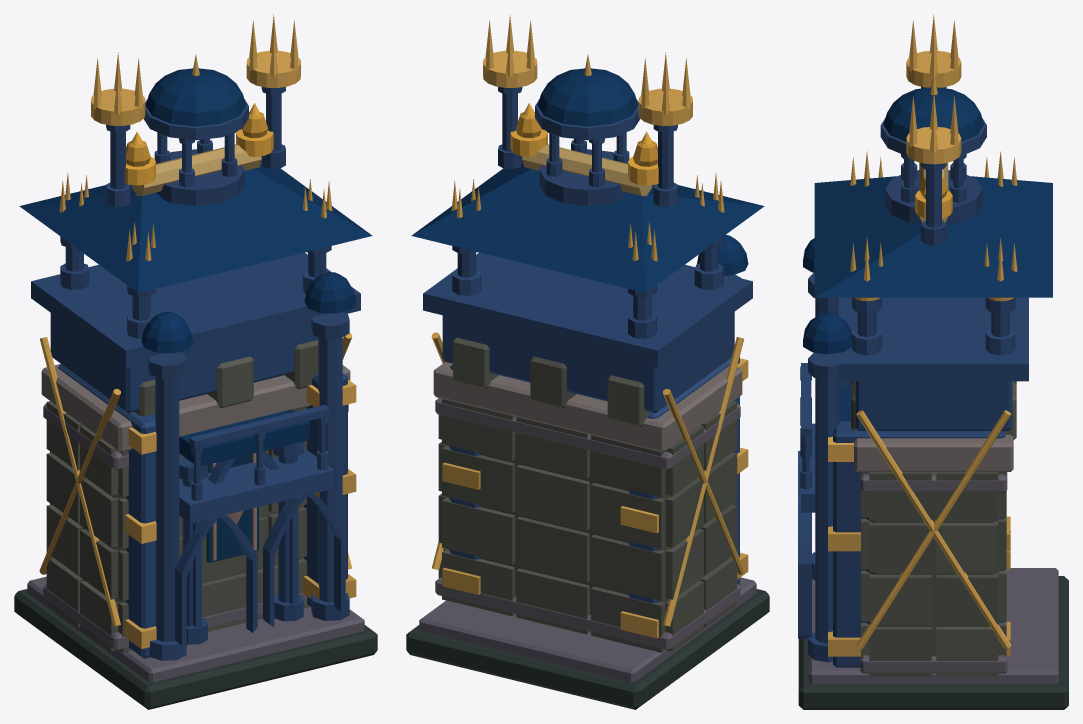
3 renders of one model, left to right at view 1: azimuth 30°, elevation 25°; view 2: azimuth 150°, elevation 25°; view 3: azimuth 270°, elevation 25°, orthographic.
Visible parts, largest first — view 1: wall_L12_0, wall_L12_1; view 2: wall_L12_0, wall_L12_1; view 3: wall_L12_0, wall_L12_1.
Part boxes in pixels (x1,y1,x2,y2): wall_L12_0: (14, 68, 377, 709); wall_L12_1: (39, 14, 356, 648); wall_L12_0: (406, 68, 769, 709); wall_L12_1: (431, 14, 748, 638); wall_L12_0: (798, 87, 1068, 709); wall_L12_1: (828, 14, 1017, 656).
Size of the model in its own units: 1.9 by 4.51 by 1.87.
